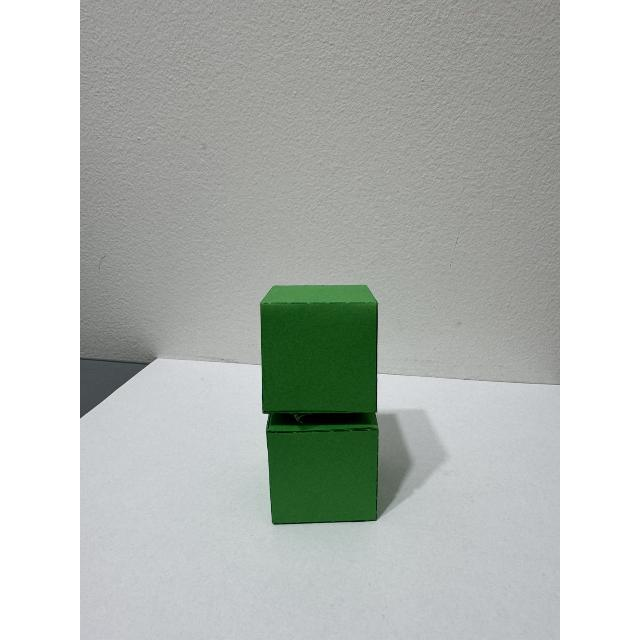green_cube: (243, 267, 437, 575)
